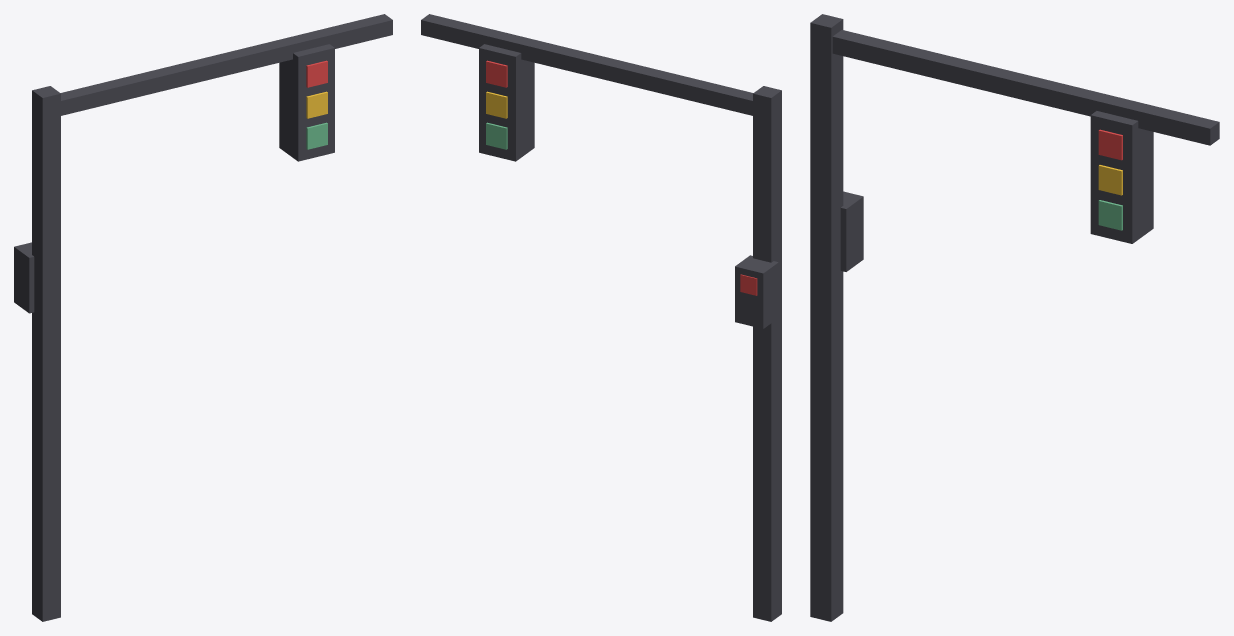
The model's file is SM_Semaforo_GDL.fbx.
3 views of the same model, side by side, from view 1: azimuth 30°, elevation 25°; view 2: azimuth 150°, elevation 25°; view 3: azimuth 330°, elevation 25° (orthographic). The views are drawn at different scales.
Visible parts, largest first — view 1: SM_Semaforo_GDL; view 2: SM_Semaforo_GDL; view 3: SM_Semaforo_GDL.
Boxes of the visible parts, x1=… form: SM_Semaforo_GDL: x1=14, y1=14, x2=392, y2=621; SM_Semaforo_GDL: x1=421, y1=14, x2=781, y2=621; SM_Semaforo_GDL: x1=810, y1=14, x2=1219, y2=621.
Size of the model in its own units: 3.49 by 4.9 by 0.5.
